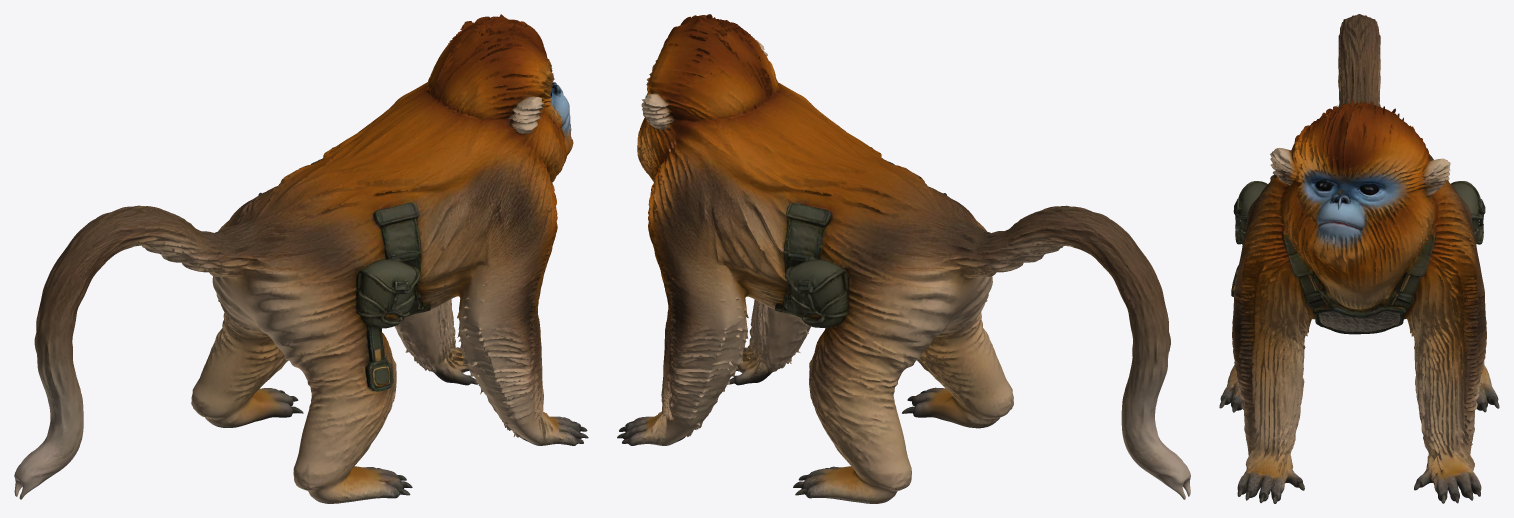
3 views of the same model, side by side, from view 1: azimuth 30°, elevation 25°; view 2: azimuth 150°, elevation 25°; view 3: azimuth 270°, elevation 25° (orthographic).
Parts seen in each view (by area): view 1: tripo_node_3f4708f3-51d4-4046-b827-0b3b012c8047; view 2: tripo_node_3f4708f3-51d4-4046-b827-0b3b012c8047; view 3: tripo_node_3f4708f3-51d4-4046-b827-0b3b012c8047.
Boxes of the visible parts, bbox=[...] form: tripo_node_3f4708f3-51d4-4046-b827-0b3b012c8047: bbox=[14, 14, 588, 503]; tripo_node_3f4708f3-51d4-4046-b827-0b3b012c8047: bbox=[617, 14, 1190, 503]; tripo_node_3f4708f3-51d4-4046-b827-0b3b012c8047: bbox=[1219, 14, 1499, 503].
Size of the model in its own units: 1 by 0.6906 by 0.4531.
1 material, 1 textured.
